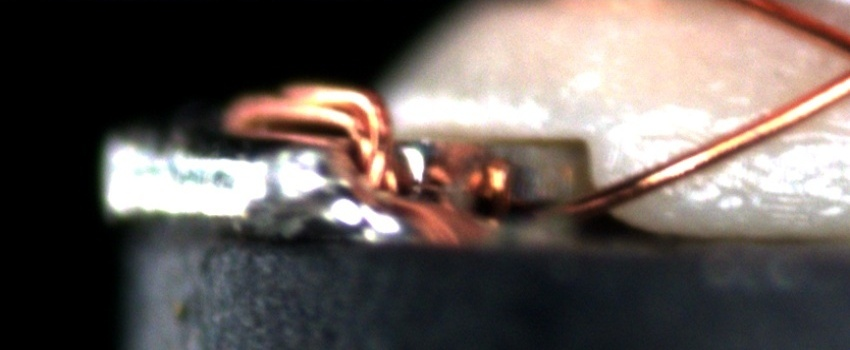DL: (639, 117, 849, 158)
TE: (212, 81, 409, 193)
